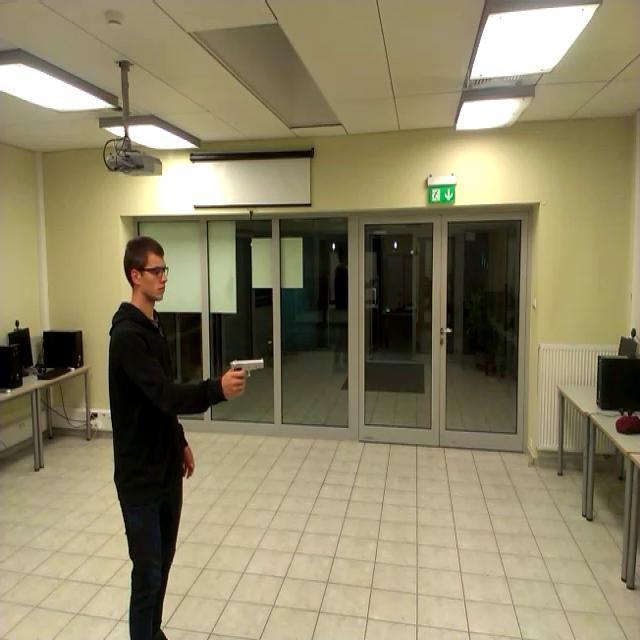gun-knife-thesis - v11 Yolov5 augmented: (213, 355, 268, 405)
